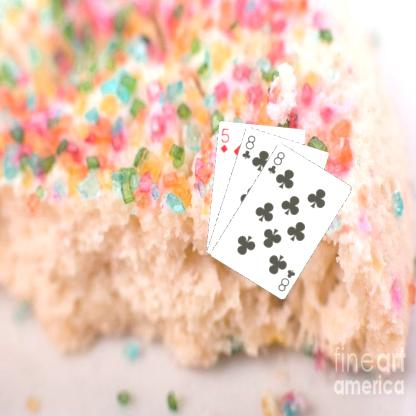5D: (218, 125, 230, 154)
8C: (275, 266, 297, 293), (265, 149, 286, 175), (239, 132, 257, 160)
